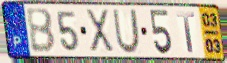5: (148, 8, 173, 56), (55, 10, 82, 53)
B: (24, 8, 57, 55)
T: (175, 11, 197, 54)
U: (112, 9, 141, 56)
X: (84, 8, 116, 55)
